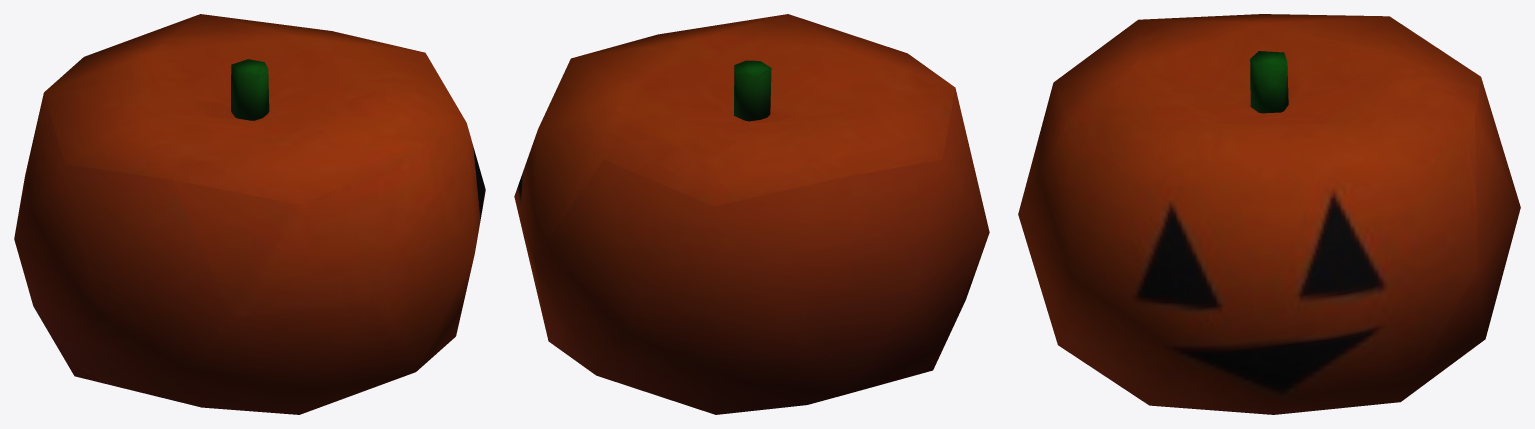
File: pumkin-mask4.dae
3 renders of one model, left to right at view 1: azimuth 30°, elevation 25°; view 2: azimuth 150°, elevation 25°; view 3: azimuth 270°, elevation 25°, orthographic. The views are drawn at different scales.
Visible parts, largest first — view 1: Icosphere; view 2: Icosphere; view 3: Icosphere.
Boxes of the visible parts, bbox=[...] form: Icosphere: bbox=[14, 14, 485, 414]; Icosphere: bbox=[514, 14, 989, 414]; Icosphere: bbox=[1018, 14, 1520, 414].
Bounding box in the file's own units: 0.2987 × 0.3108 × 0.2102.
Materials: 1 (1 with a texture image).
